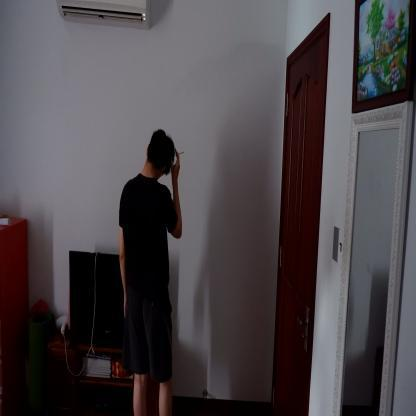cigarette: (178, 151, 184, 156)
person: (116, 126, 184, 415)
